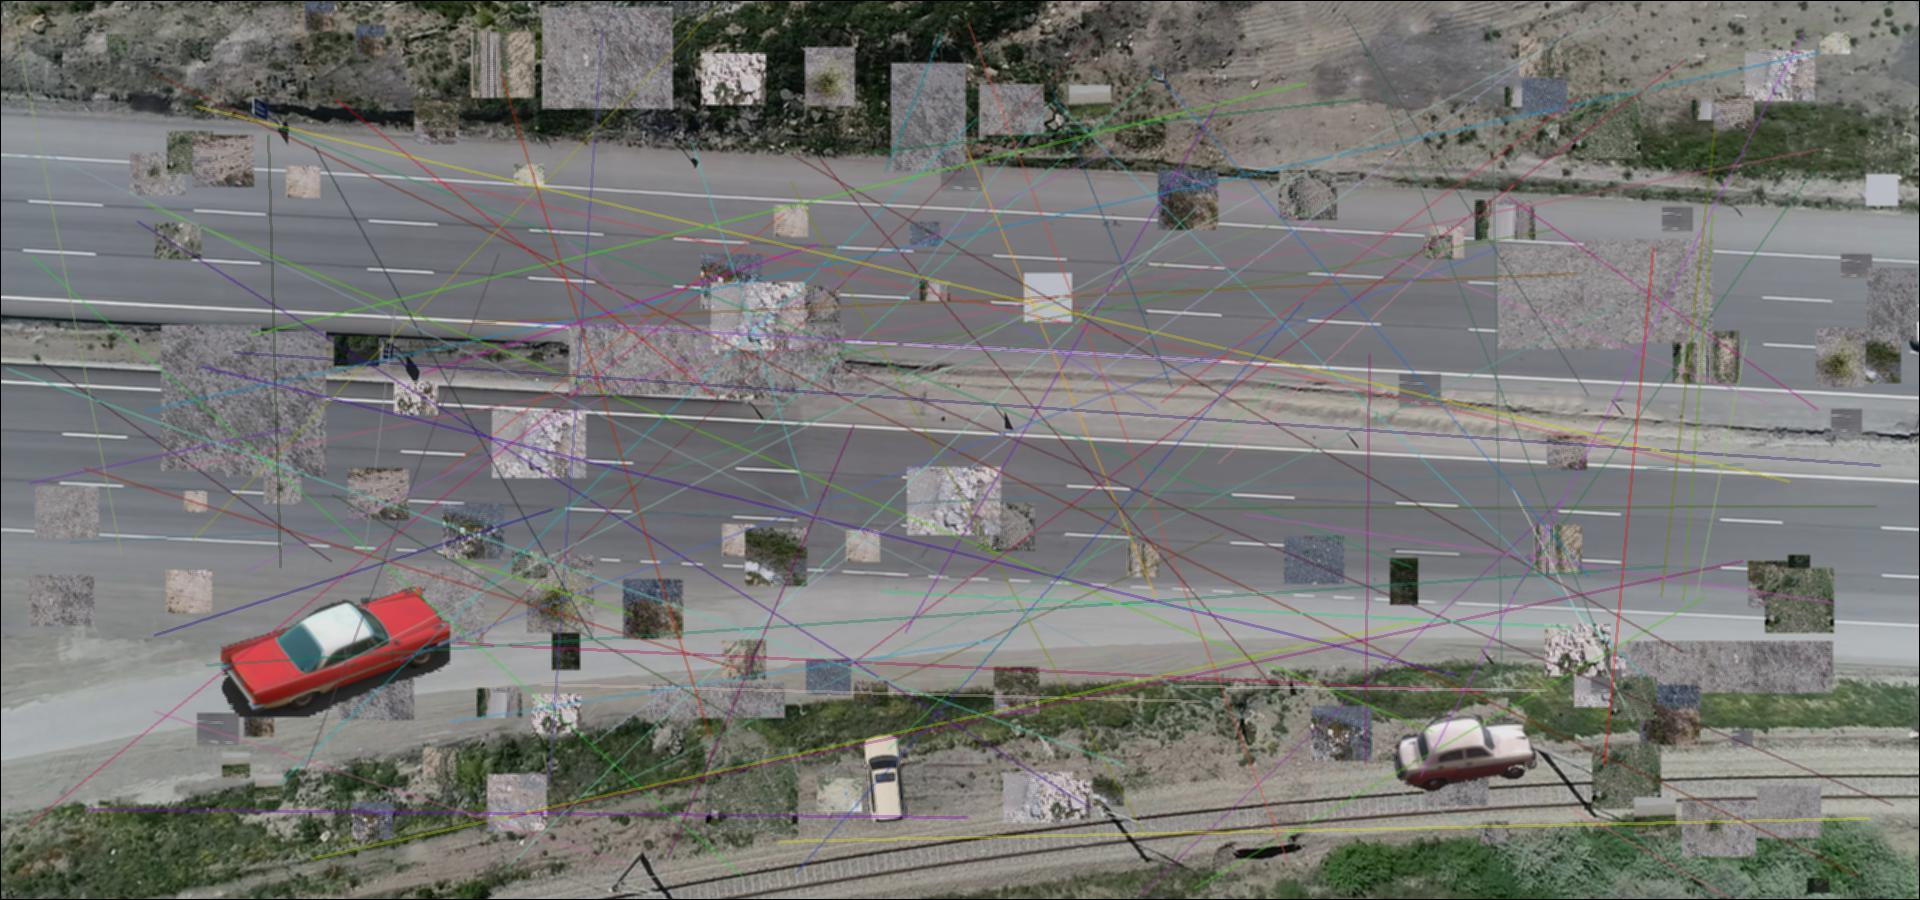arac: (220, 587, 451, 718), (1393, 715, 1537, 795), (862, 735, 909, 822)
